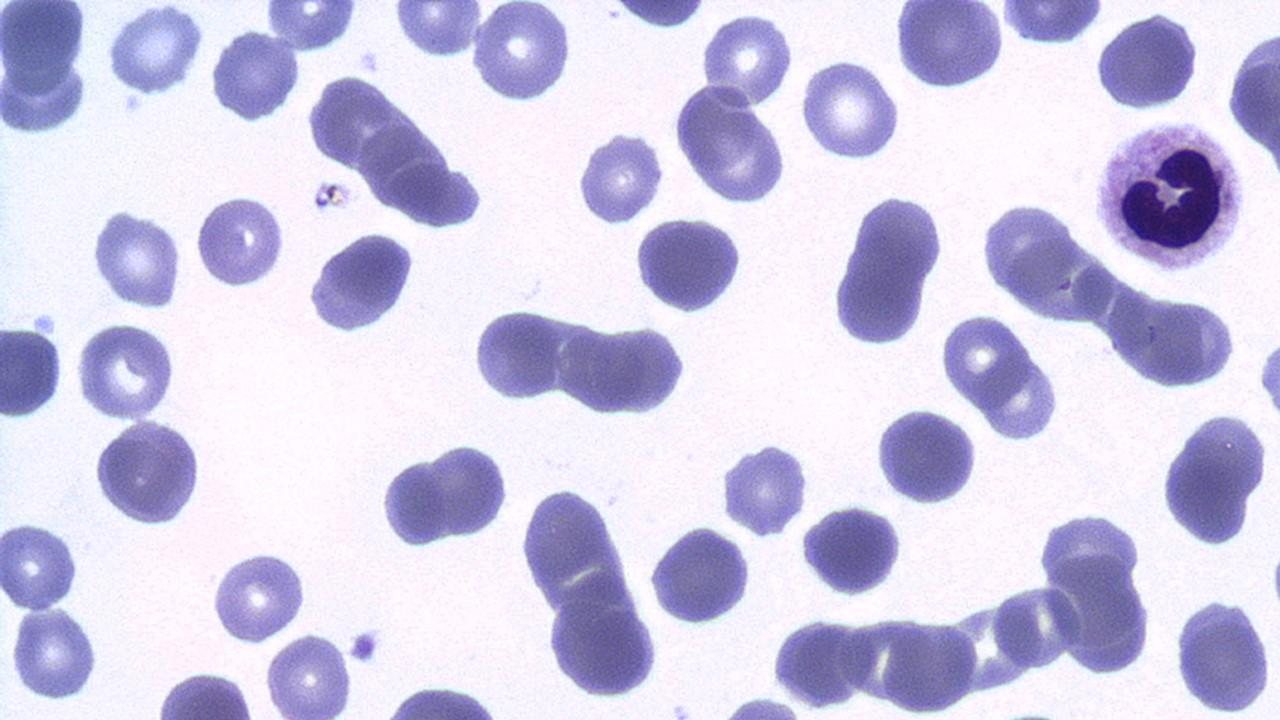Platelets: (87, 204, 186, 310), (718, 438, 812, 540), (572, 127, 665, 228), (264, 630, 355, 718), (1256, 332, 1280, 433), (344, 624, 384, 667), (310, 179, 335, 211), (30, 310, 58, 336), (1269, 548, 1280, 612), (357, 48, 382, 74), (122, 91, 144, 116), (668, 700, 694, 720)
RBC: (1156, 407, 1270, 550), (672, 81, 789, 207), (0, 0, 91, 136), (468, 0, 574, 106), (798, 56, 904, 162), (208, 542, 308, 648), (72, 320, 177, 420), (4, 602, 106, 704), (880, 614, 980, 718), (89, 204, 183, 313), (698, 8, 796, 110), (470, 303, 566, 403), (105, 2, 205, 98), (940, 310, 1032, 412), (575, 125, 665, 228), (601, 322, 689, 416), (557, 322, 638, 420), (264, 630, 353, 718), (2, 518, 83, 612), (0, 317, 66, 421), (147, 667, 263, 716), (392, 1, 485, 60), (262, 1, 360, 55)
WBC: (22, 0, 930, 720), (694, 0, 1280, 720), (4, 0, 680, 406), (0, 36, 328, 720), (509, 473, 672, 710), (1090, 115, 1250, 278), (820, 185, 954, 352), (1157, 406, 1273, 551), (672, 80, 790, 206), (91, 415, 209, 530), (1170, 593, 1278, 715), (0, 1, 94, 140), (304, 225, 419, 336), (1091, 4, 1205, 113), (632, 213, 749, 317), (645, 520, 757, 626), (872, 403, 983, 508), (766, 611, 876, 715), (468, 0, 576, 105), (890, 1, 1010, 94), (798, 500, 908, 600), (3, 604, 106, 706), (208, 544, 309, 647), (717, 435, 813, 541), (698, 8, 794, 113), (192, 191, 290, 292), (207, 25, 304, 125), (470, 303, 566, 404), (1225, 10, 1280, 185), (573, 127, 669, 227), (104, 3, 205, 96), (423, 440, 512, 544), (601, 320, 689, 420), (1, 516, 87, 614), (379, 452, 452, 552), (0, 319, 64, 422), (151, 666, 261, 720), (391, 1, 485, 62), (991, 1, 1117, 46), (259, 1, 364, 53), (372, 682, 518, 718), (606, 0, 718, 30)
